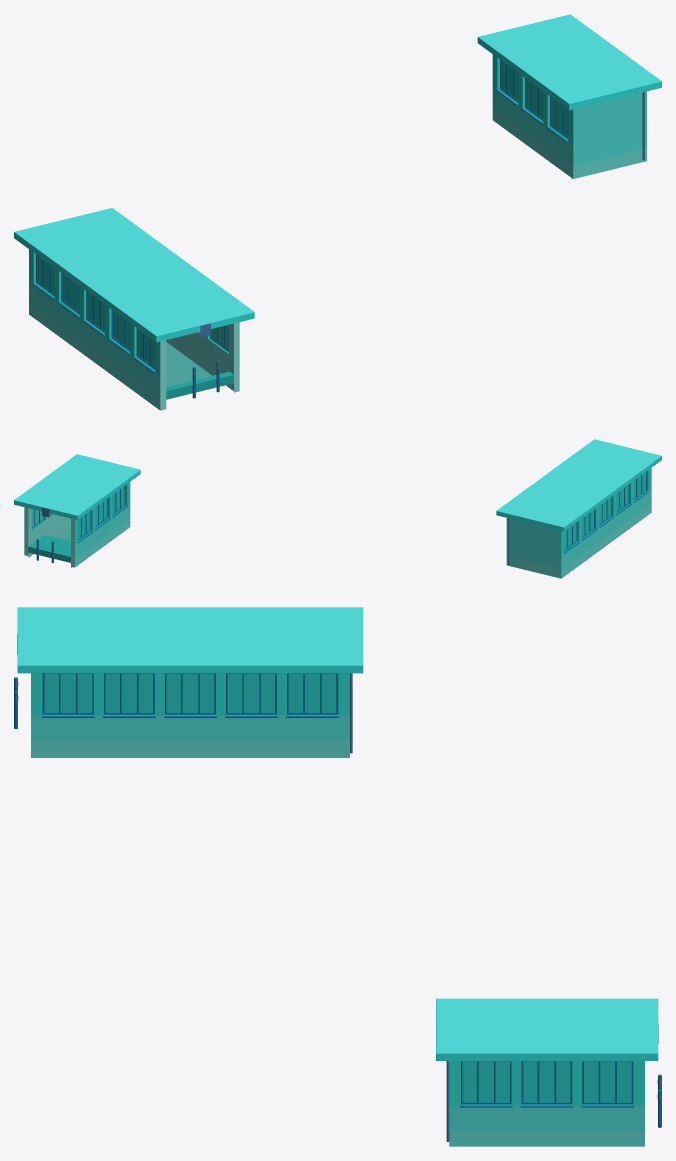
The model's file is calevoet.glb.
3 views of the same model, one above another, from view 1: azimuth 30°, elevation 25°; view 2: azimuth 150°, elevation 25°; view 3: azimuth 270°, elevation 25° (orthographic). The views are drawn at different scales.
Visible parts, largest first — view 1: Underpass_lod0, Underpass_throat; view 2: Underpass_lod0, Underpass_throat; view 3: Underpass_lod0.
Boxes of the visible parts, bbox=[...] form: Underpass_lod0: bbox=[14, 14, 661, 410]; Underpass_throat: bbox=[166, 323, 233, 390]; Underpass_lod0: bbox=[14, 439, 661, 578]; Underpass_throat: bbox=[28, 508, 72, 567]; Underpass_lod0: bbox=[14, 607, 661, 1146].
Size of what is drawn, in the model's own units: 28.47 by 4.87 by 19.42.
